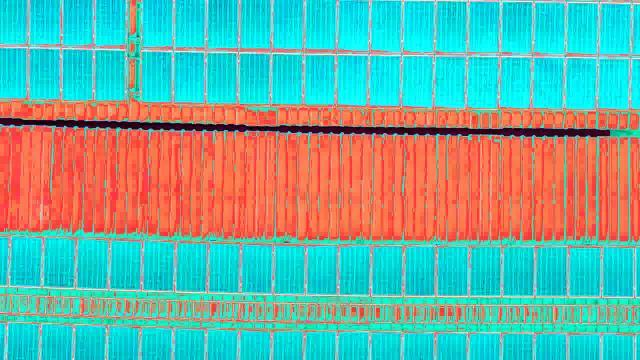dirty: (600, 245, 640, 300), (6, 234, 45, 289), (39, 233, 78, 288), (71, 235, 110, 290), (107, 235, 146, 290), (136, 237, 175, 292), (170, 239, 209, 294), (202, 241, 241, 296), (240, 242, 279, 297), (272, 242, 311, 297), (304, 241, 343, 296), (338, 242, 377, 297), (369, 243, 408, 298), (399, 243, 438, 298), (434, 245, 473, 300), (463, 243, 502, 298), (502, 244, 541, 299), (529, 244, 568, 299), (560, 243, 599, 298), (305, 1, 337, 50), (268, 1, 300, 50), (238, 1, 270, 50), (209, 1, 241, 50), (174, 1, 206, 50), (141, 1, 173, 50), (91, 1, 123, 50), (65, 1, 97, 50), (29, 1, 61, 50), (29, 47, 58, 101), (65, 47, 94, 101), (97, 49, 126, 103), (138, 50, 167, 104), (176, 49, 205, 103), (210, 53, 239, 107), (239, 53, 268, 107), (274, 54, 303, 108), (308, 53, 337, 107), (340, 51, 369, 105), (371, 53, 400, 107), (403, 55, 432, 109), (437, 53, 466, 107), (469, 56, 498, 110), (499, 55, 528, 109), (535, 56, 564, 110), (568, 55, 597, 109), (600, 59, 629, 113), (533, 1, 562, 54), (1, 47, 29, 101), (603, 1, 632, 53), (568, 1, 597, 53), (502, 1, 531, 53), (469, 1, 498, 53), (438, 1, 467, 53), (401, 1, 430, 53), (370, 1, 399, 53), (340, 1, 369, 53), (1, 1, 26, 44)
